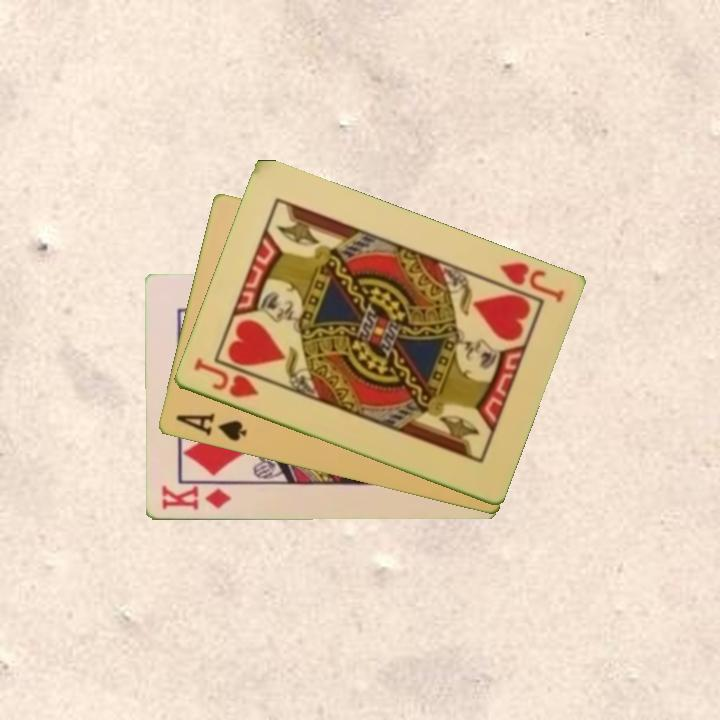As: (172, 409, 250, 445)
Jh: (494, 259, 567, 306), (189, 355, 261, 401)
Kd: (158, 482, 234, 513)
